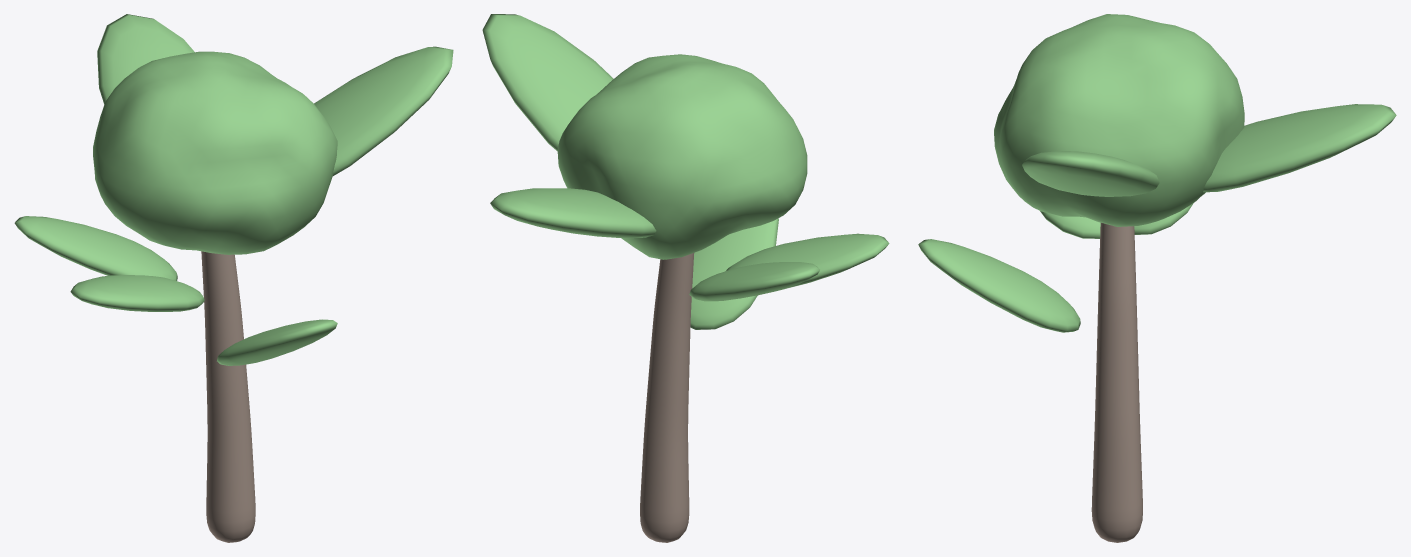
File: tree_sprout_0.glb
3 renders of one model, left to right at view 1: azimuth 30°, elevation 25°; view 2: azimuth 150°, elevation 25°; view 3: azimuth 270°, elevation 25°, orthographic. The views are drawn at different scales.
Parts seen in each view (by area): view 1: leaf_5, trunk, leaf_0, leaf_2, leaf_1, leaf_3, leaf_4; view 2: leaf_5, trunk, leaf_0, leaf_1, leaf_4, leaf_3, leaf_2; view 3: leaf_5, trunk, leaf_1, leaf_4, leaf_0, leaf_3, leaf_2.
Part boxes in pixels (left/top/right/bottom): leaf_5: left=93, top=51, right=337, bottom=254; trunk: left=201, top=251, right=255, bottom=542; leaf_0: left=314, top=46, right=453, bottom=175; leaf_2: left=14, top=216, right=177, bottom=280; leaf_1: left=97, top=14, right=194, bottom=104; leaf_3: left=70, top=275, right=204, bottom=311; leaf_4: left=217, top=319, right=337, bottom=365; leaf_5: left=557, top=54, right=807, bottom=259; trunk: left=640, top=253, right=694, bottom=542; leaf_0: left=482, top=14, right=613, bottom=151; leaf_1: left=490, top=188, right=656, bottom=238; leaf_4: left=690, top=218, right=778, bottom=329; leaf_3: left=726, top=233, right=889, bottom=290; leaf_2: left=689, top=262, right=819, bottom=301; leaf_5: left=994, top=14, right=1244, bottom=226; trunk: left=1091, top=223, right=1142, bottom=542; leaf_1: left=1203, top=104, right=1396, bottom=192; leaf_4: left=918, top=239, right=1080, bottom=332; leaf_0: left=1022, top=151, right=1159, bottom=196; leaf_3: left=1040, top=211, right=1100, bottom=238; leaf_2: left=1134, top=203, right=1193, bottom=234.
Bounding box in the file's own units: 0.757 × 0.8921 × 0.7777.
